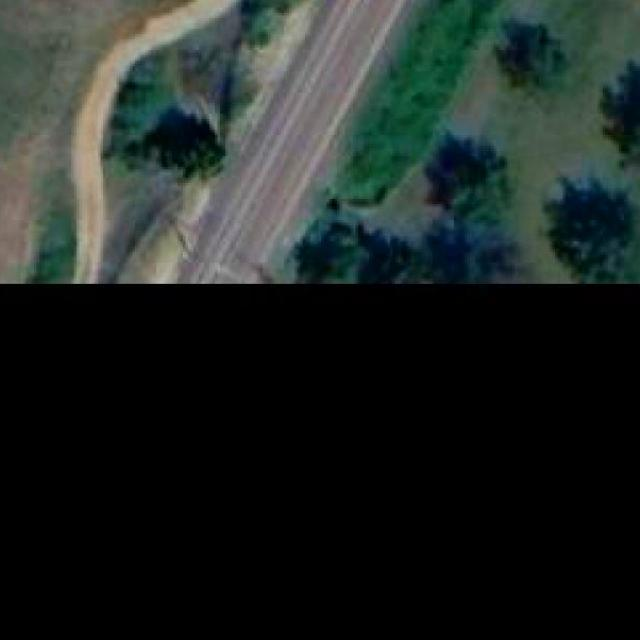Tree: (102, 70, 225, 178), (536, 178, 640, 282), (366, 223, 532, 282), (486, 18, 563, 103), (433, 142, 510, 215), (285, 215, 356, 285), (599, 62, 640, 176)
